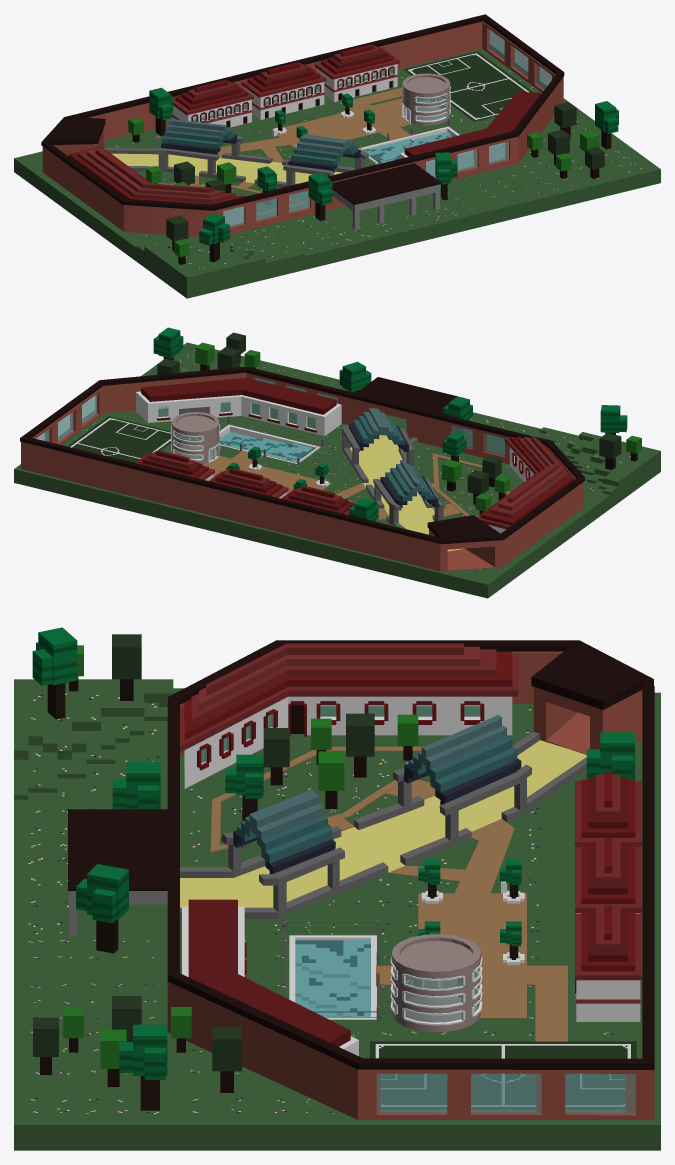
Rendered from Escenario.fbx.
3 views of the same model, one above another, from view 1: azimuth 30°, elevation 25°; view 2: azimuth 150°, elevation 25°; view 3: azimuth 270°, elevation 25° (orthographic). The views are drawn at different scales.
Visible parts, largest first — view 1: Box001, Line001, Line003, Box025, Box024, Line002, Box003, Box023, Box022, Box021, Line004, Cylinder001 (+12 smaller); view 2: Line001, Box001, Line004, Line003, Line002, Box025, Cylinder001, Box024, Box003, Box023, Box022, Box021 (+13 smaller); view 3: Box001, Line001, Line003, Line002, Box024, Box025, Line004, Cylinder001, Box003, Box023, Box022, Box021 (+18 smaller).
Boxes of the visible parts, bbox=[...] form: Box001: bbox=[14, 45, 660, 298]; Line001: bbox=[41, 14, 564, 236]; Line003: bbox=[104, 119, 368, 191]; Box025: bbox=[403, 51, 532, 121]; Box024: bbox=[174, 87, 412, 184]; Line002: bbox=[68, 146, 245, 224]; Box003: bbox=[332, 163, 440, 229]; Box023: bbox=[315, 44, 399, 101]; Box022: bbox=[241, 62, 326, 119]; Box021: bbox=[171, 80, 253, 127]; Line004: bbox=[399, 91, 540, 175]; Cylinder001: bbox=[402, 73, 450, 125]; Line001: bbox=[20, 366, 584, 571]; Box001: bbox=[14, 342, 660, 598]; Line004: bbox=[136, 378, 341, 436]; Line003: bbox=[342, 408, 463, 551]; Line002: bbox=[477, 436, 574, 533]; Box025: bbox=[67, 416, 176, 462]; Cylinder001: bbox=[171, 412, 220, 463]; Box024: bbox=[202, 450, 460, 519]; Box003: bbox=[356, 377, 457, 414]; Box023: bbox=[135, 450, 214, 480]; Box022: bbox=[209, 468, 288, 498]; Box021: bbox=[281, 485, 354, 515]; Box001: bbox=[14, 679, 660, 1150]; Line001: bbox=[167, 640, 654, 1120]; Line003: bbox=[180, 714, 586, 918]; Line002: bbox=[180, 643, 518, 788]; Box024: bbox=[376, 779, 567, 1041]; Box025: bbox=[370, 1041, 636, 1109]; Line004: bbox=[182, 899, 358, 1055]; Cylinder001: bbox=[390, 934, 482, 1032]; Box003: bbox=[68, 809, 167, 936]; Box023: bbox=[575, 905, 641, 1021]; Box022: bbox=[575, 838, 641, 913]; Box021: bbox=[575, 772, 641, 846].
Size of the model in its own units: 170 by 21.45 by 107.
